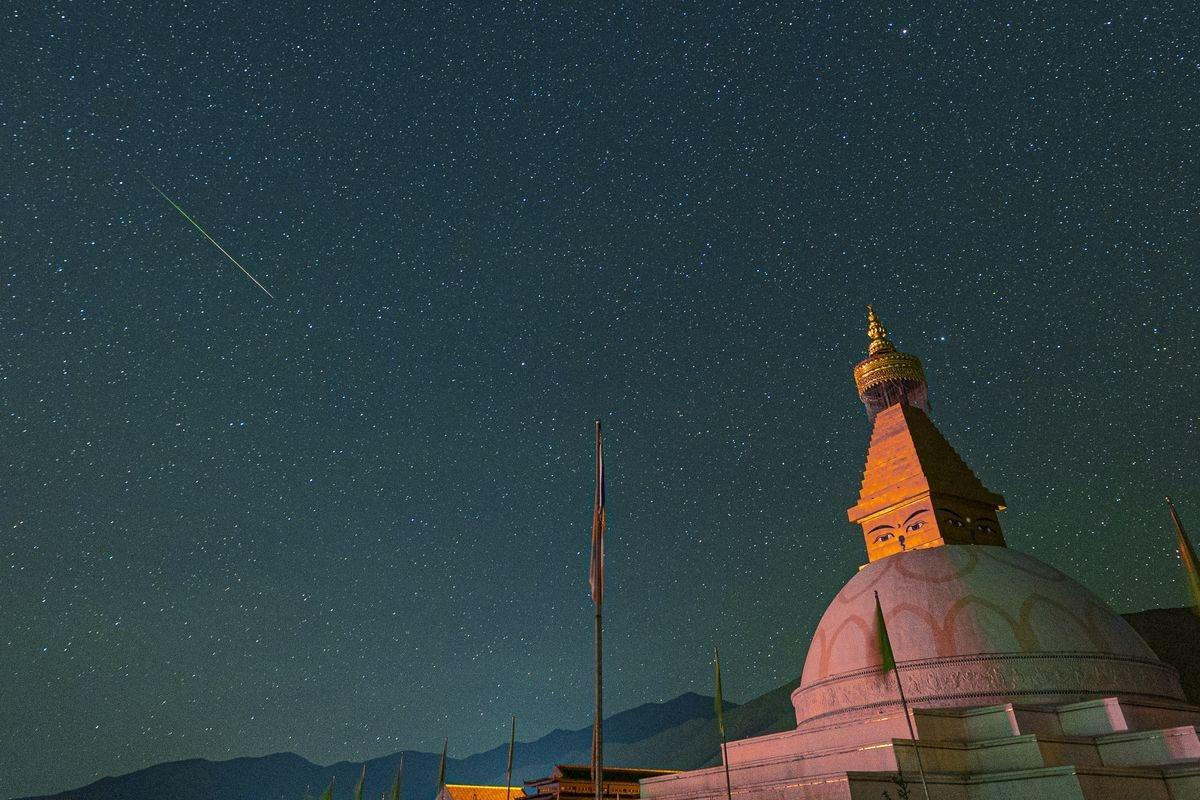meteorite: (127, 173, 299, 313)
